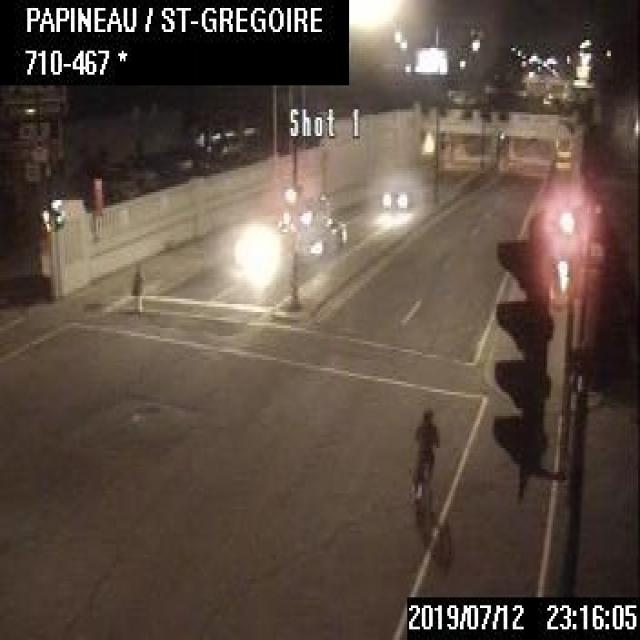cyclist: (408, 405, 438, 528)
pedestrian: (127, 261, 142, 315)
vehicle: (289, 207, 345, 264), (280, 191, 328, 234), (380, 178, 420, 210)
